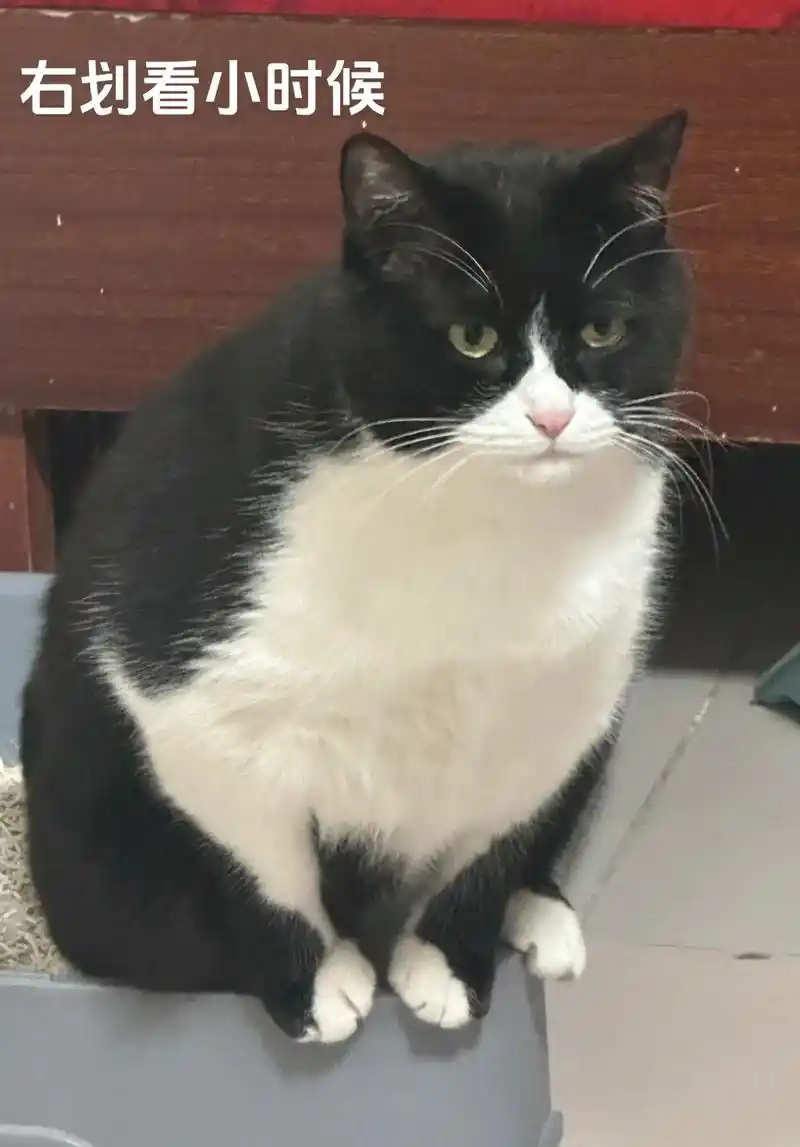奶牛猫: (105, 353, 663, 1042), (265, 110, 718, 528)
